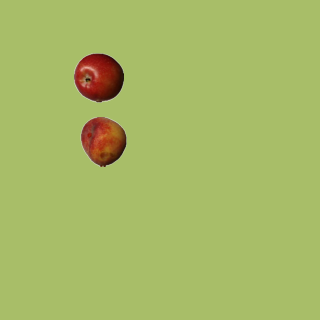Apple Braeburn: (73, 52, 123, 102)
Peach: (78, 116, 128, 166)
